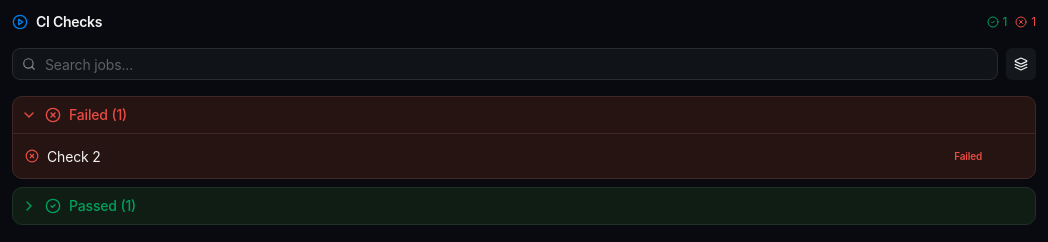
Test: CIChecksSection › flat list view › should toggle to flat list view when group toggle button is clicked
// Click the group toggle button (layers icon button)
Click the button titled "Show flat list": [1021, 64] box [1006,48,1036,80]
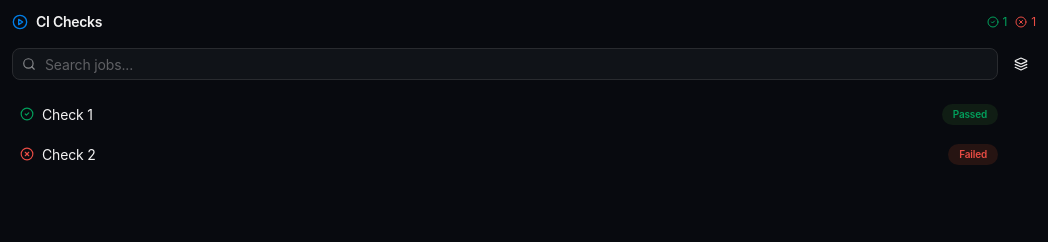
Check: the button "Check 1" is shown, box [42,105,93,125]
Check: the button "Passed (1)" is gone
Check: the button "Failed (1)" is gone
